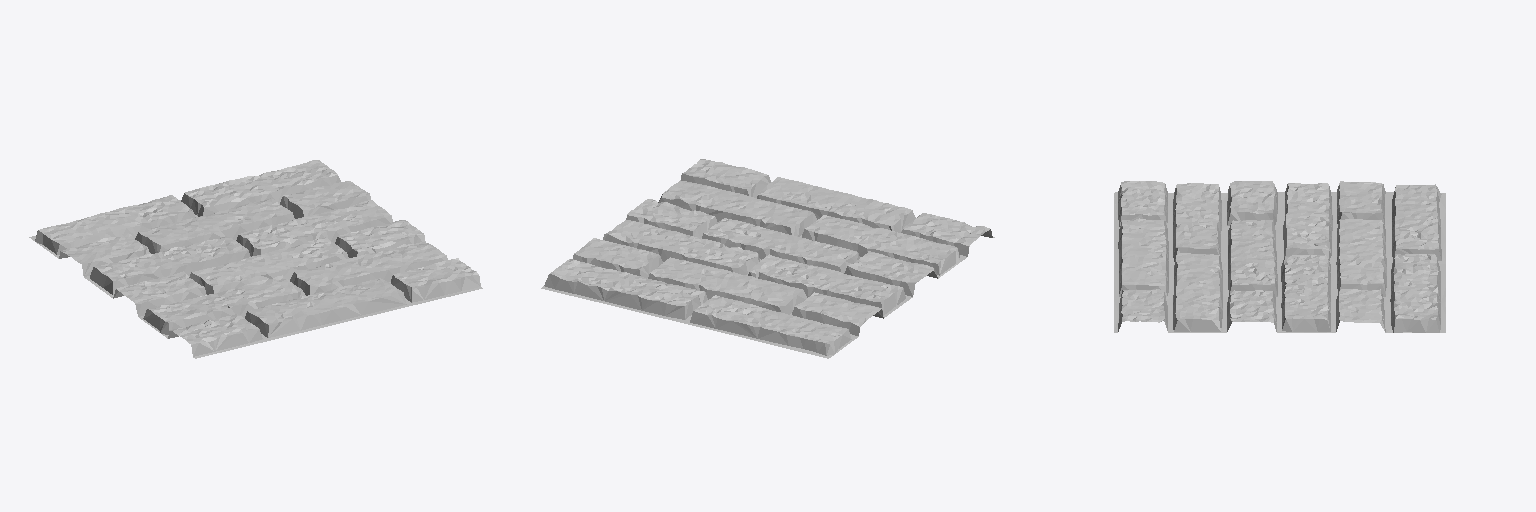
The model's file is tile_brick.obj.
The picture shows the model from 3 angles: view 1: azimuth 30°, elevation 25°; view 2: azimuth 150°, elevation 25°; view 3: azimuth 270°, elevation 25°; orthographic projection.
Parts seen in each view (by area): view 1: Plane; view 2: Plane; view 3: Plane.
Part boxes in pixels (x1,y1,x2,y2): Plane: (29, 160, 482, 358); Plane: (541, 159, 994, 358); Plane: (1114, 181, 1445, 332).
Bounding box in the file's own units: 2 × 0.0922 × 2.